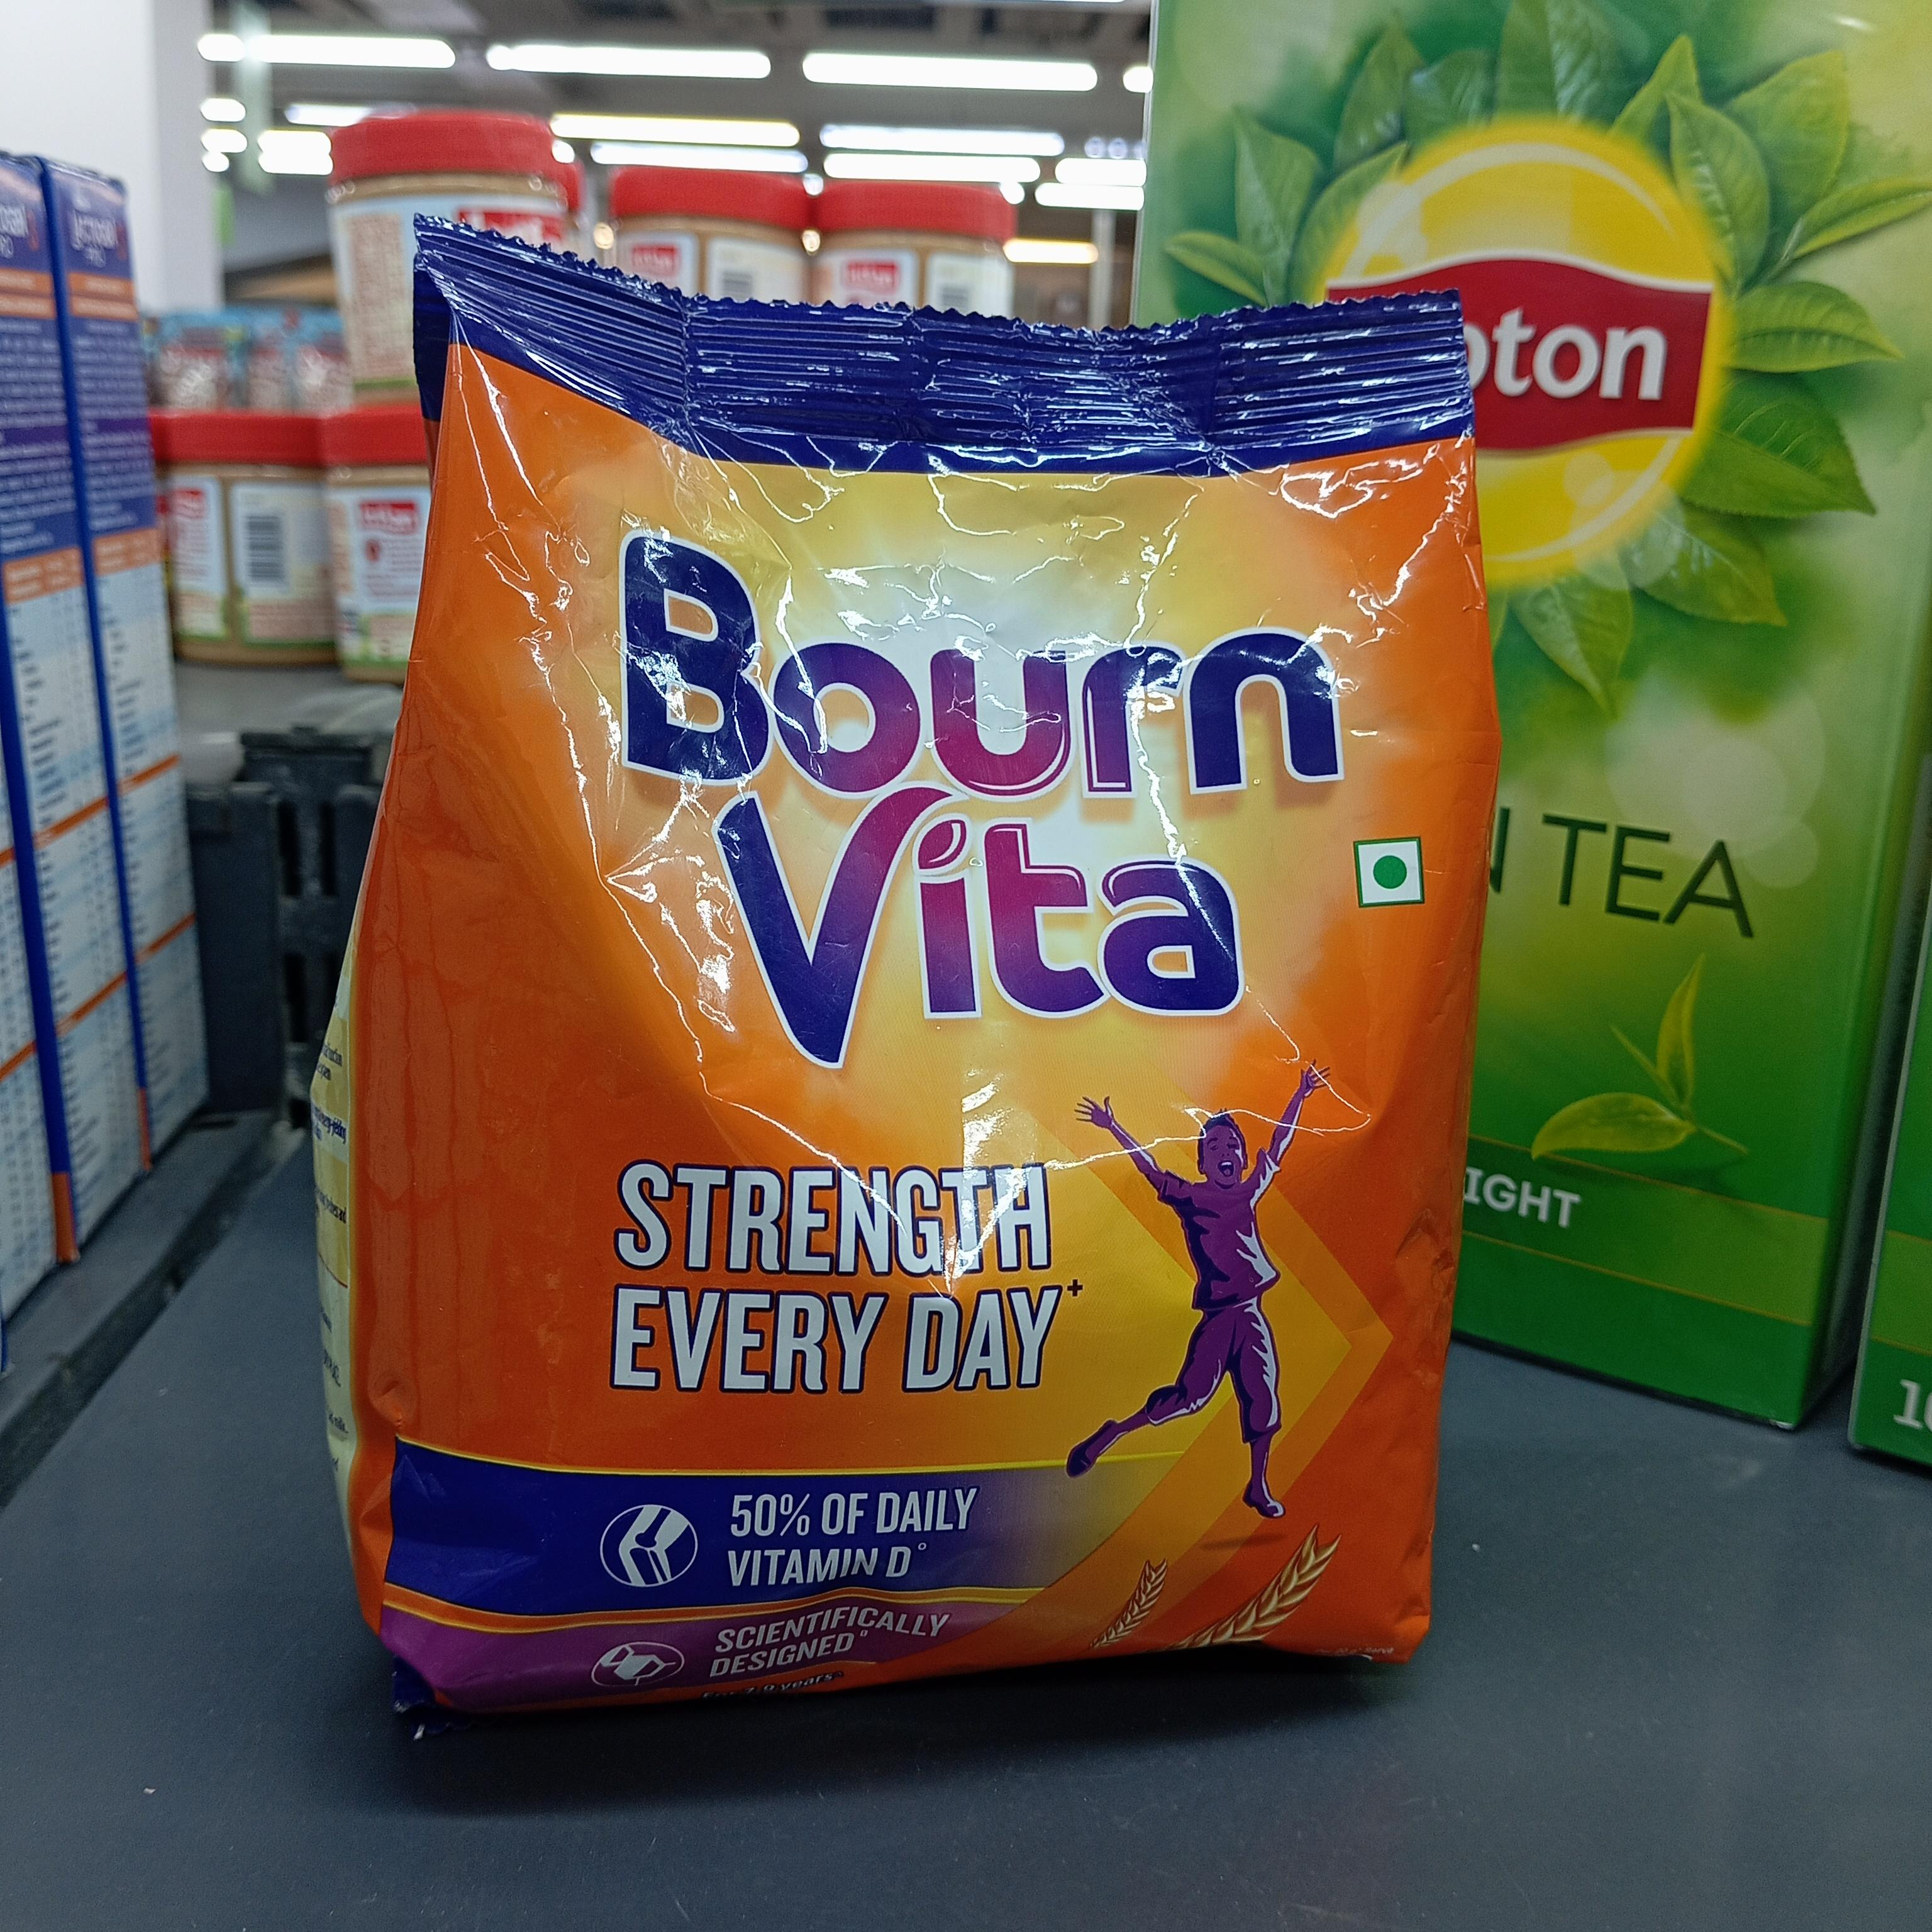BOURN_VITA_500_G_POUCH: (433, 239, 1456, 1672)
